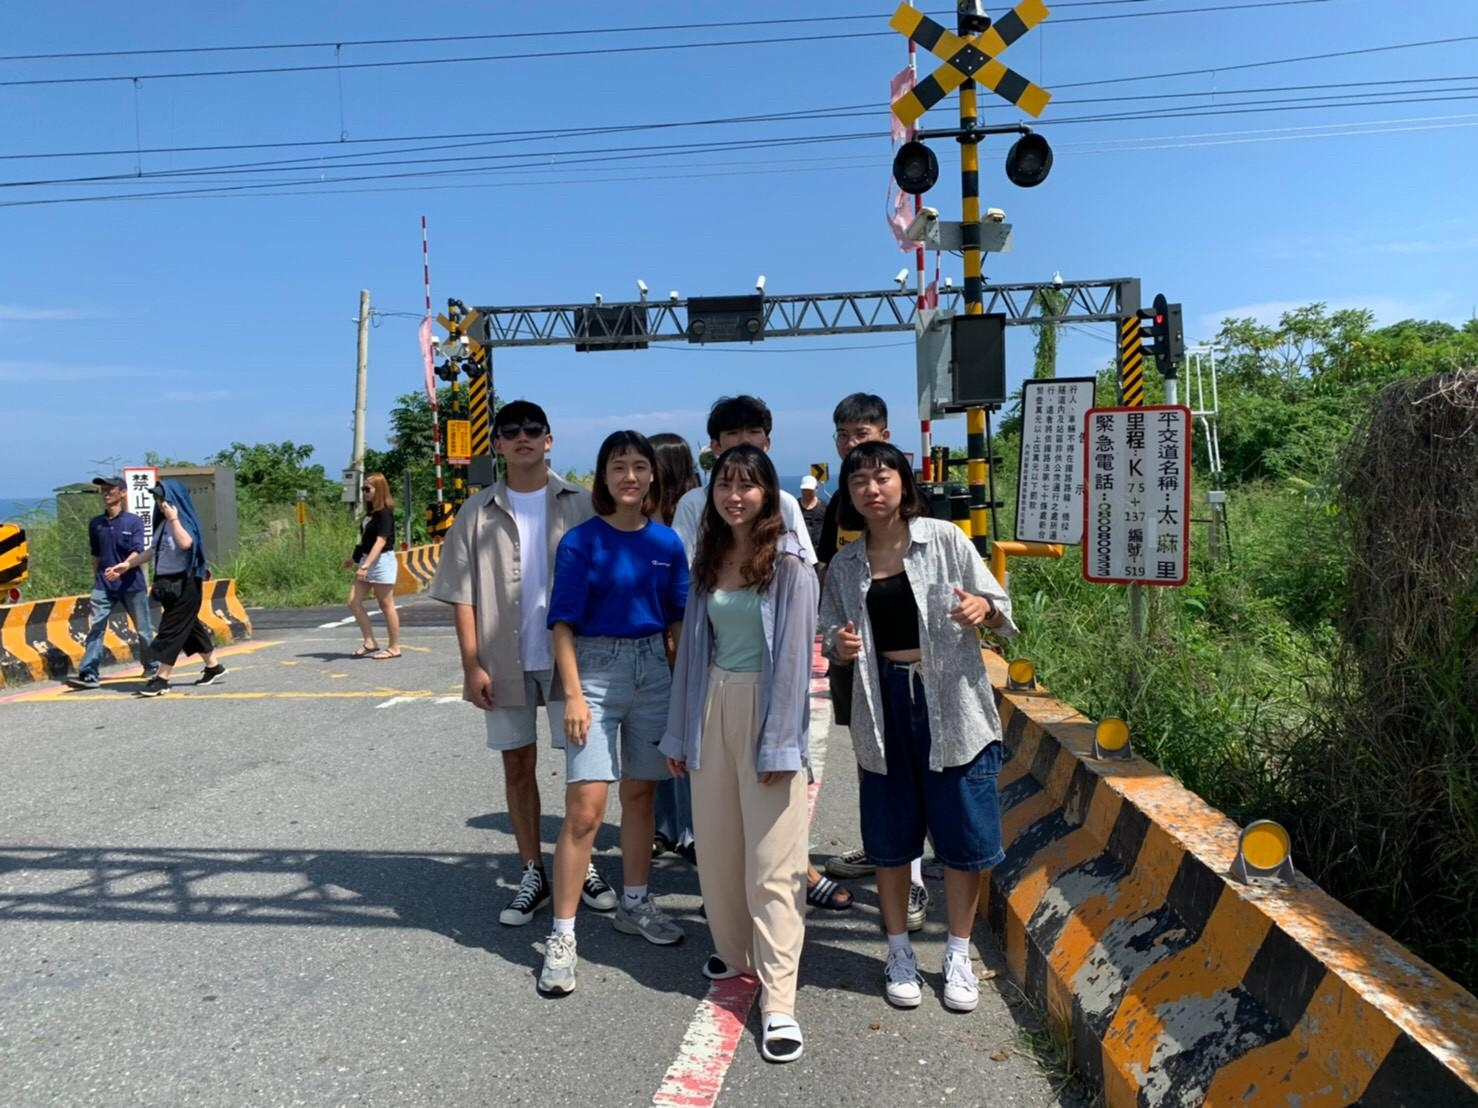people: (840, 455, 983, 1009), (469, 411, 617, 921), (702, 457, 817, 1059), (552, 432, 683, 957), (817, 400, 938, 925), (692, 398, 804, 894), (144, 480, 227, 686), (83, 482, 152, 684), (352, 475, 404, 657)
